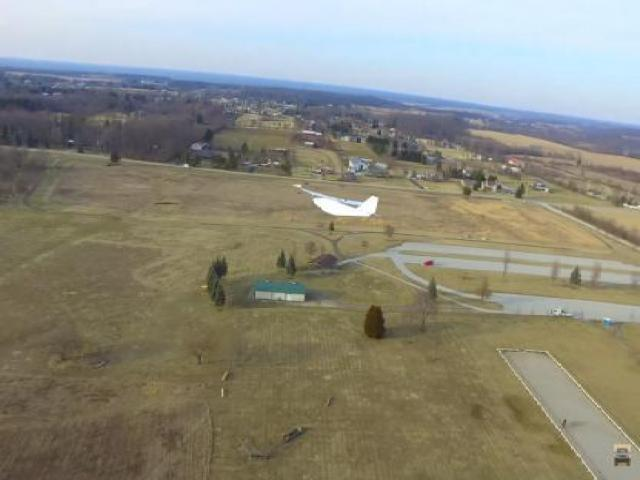uav: (288, 176, 387, 230)
